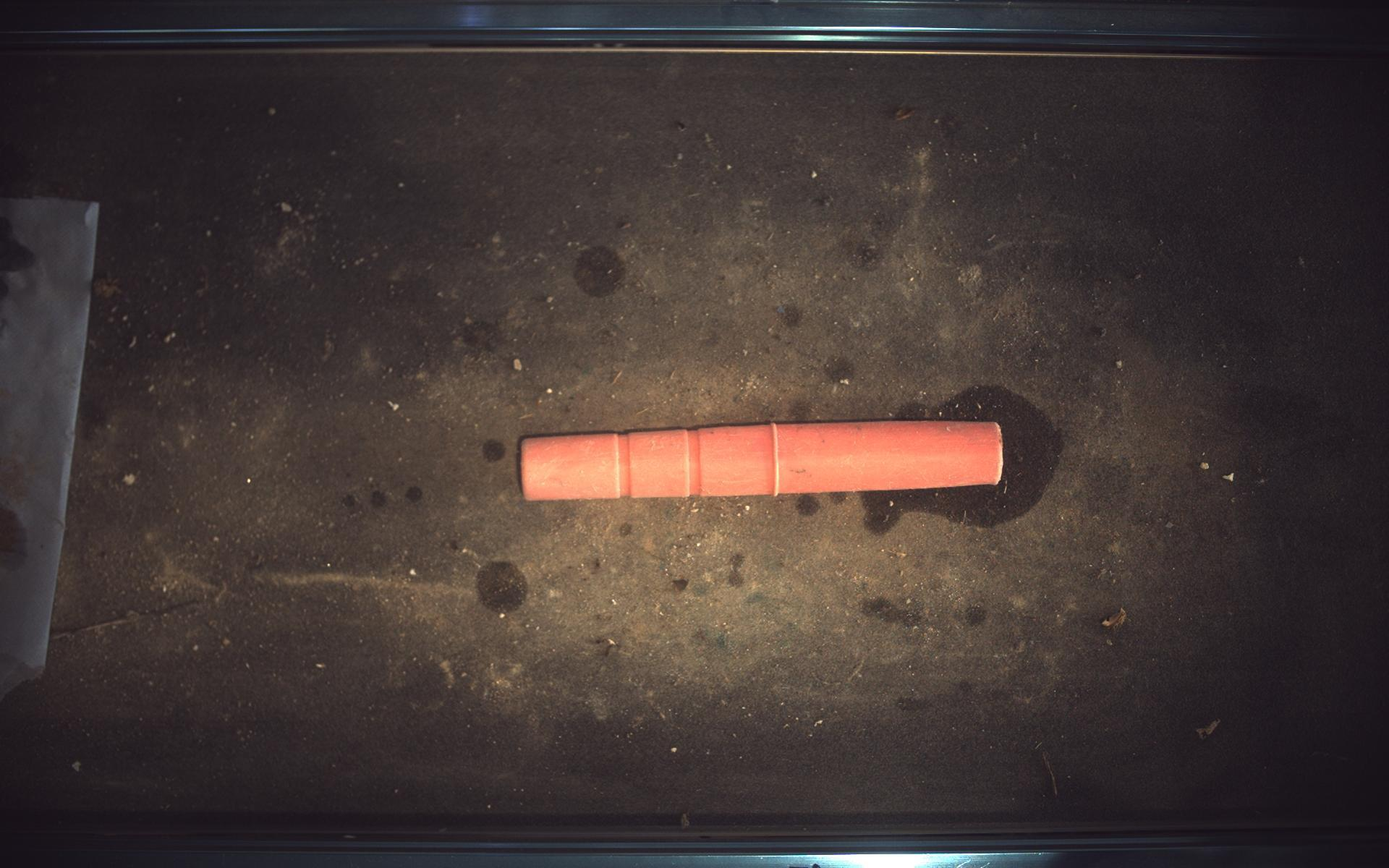plastic: (521, 421, 1005, 501)
